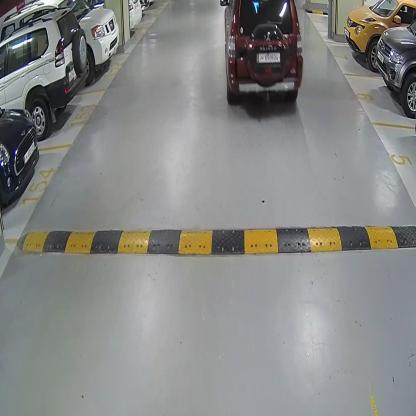np: (257, 50, 281, 63)
